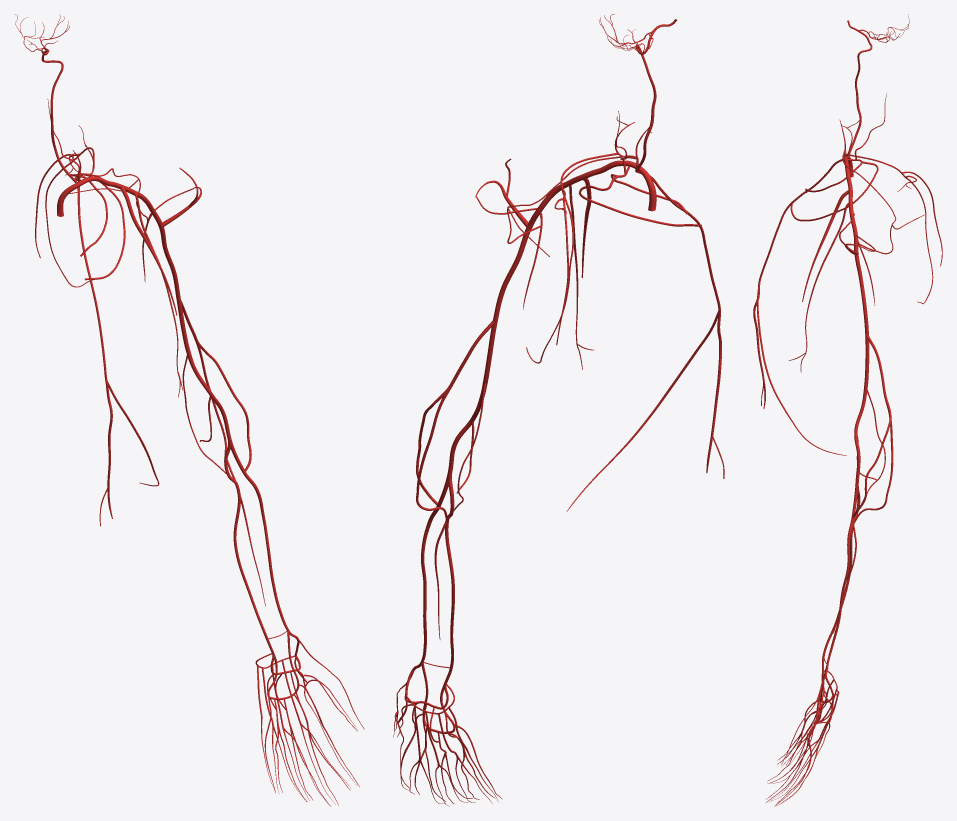
The model's file is circulatorio-left-subclavian-artery.glb.
3 views of the same model, side by side, from view 1: azimuth 30°, elevation 25°; view 2: azimuth 150°, elevation 25°; view 3: azimuth 270°, elevation 25° (orthographic). The views are drawn at different scales.
Parts seen in each view (by area): view 1: Proper palmar digital arteries.l, Brachial artery.l, Dorsal digital arteries of hand.l, Radial artery.l, Ulnar artery.l; view 2: Brachial artery.l, Proper palmar digital arteries.l, Radial artery.l, Ulnar artery.l, Dorsal digital arteries of hand.l, Musculophrenic artery.l, (Deep branch of transverse cervical artery).l, Vertebral artery.l, Superior epigastric artery.l, Left subclavian artery; view 3: Brachial artery.l, Proper palmar digital arteries.l, Radial artery.l, Dorsal digital arteries of hand.l, Musculophrenic artery.l, Ulnar artery.l, (Deep branch of transverse cervical artery).l, Vertebral artery.l, Lateral thoracic artery.l, Internal thoracic artery.l, Radial collateral artery.l.
Part boxes in pixels (x1,y1,x2,y2): Proper palmar digital arteries.l: (264,638,364,806); Brachial artery.l: (152,211,231,439); Dorsal digital arteries of hand.l: (261,679,356,804); Radial artery.l: (229,438,299,655); Ulnar artery.l: (224,439,273,653); Brachial artery.l: (448,209,539,471); Proper palmar digital arteries.l: (395,672,502,803); Radial artery.l: (405,470,448,696); Ulnar artery.l: (444,472,454,683); Dorsal digital arteries of hand.l: (393,711,498,806); Musculophrenic artery.l: (566,311,718,511); (Deep branch of transverse cervical artery).l: (526,152,618,363); Vertebral artery.l: (635,19,677,171); Superior epigastric artery.l: (706,311,724,478); Left subclavian artery: (596,160,656,211); Brachial artery.l: (853,235,869,482); Proper palmar digital arteries.l: (766,676,825,806); Radial artery.l: (825,482,858,695); Dorsal digital arteries of hand.l: (771,713,830,805); Musculophrenic artery.l: (756,282,846,455); Ulnar artery.l: (822,486,860,671); (Deep branch of transverse cervical artery).l: (847,154,933,303); Vertebral artery.l: (847,20,872,158); Lateral thoracic artery.l: (789,202,848,372); Internal thoracic artery.l: (758,159,842,282); Radial collateral artery.l: (852,394,891,518).
Size of the model in its own units: 0.3329 by 0.8831 by 0.2209.
